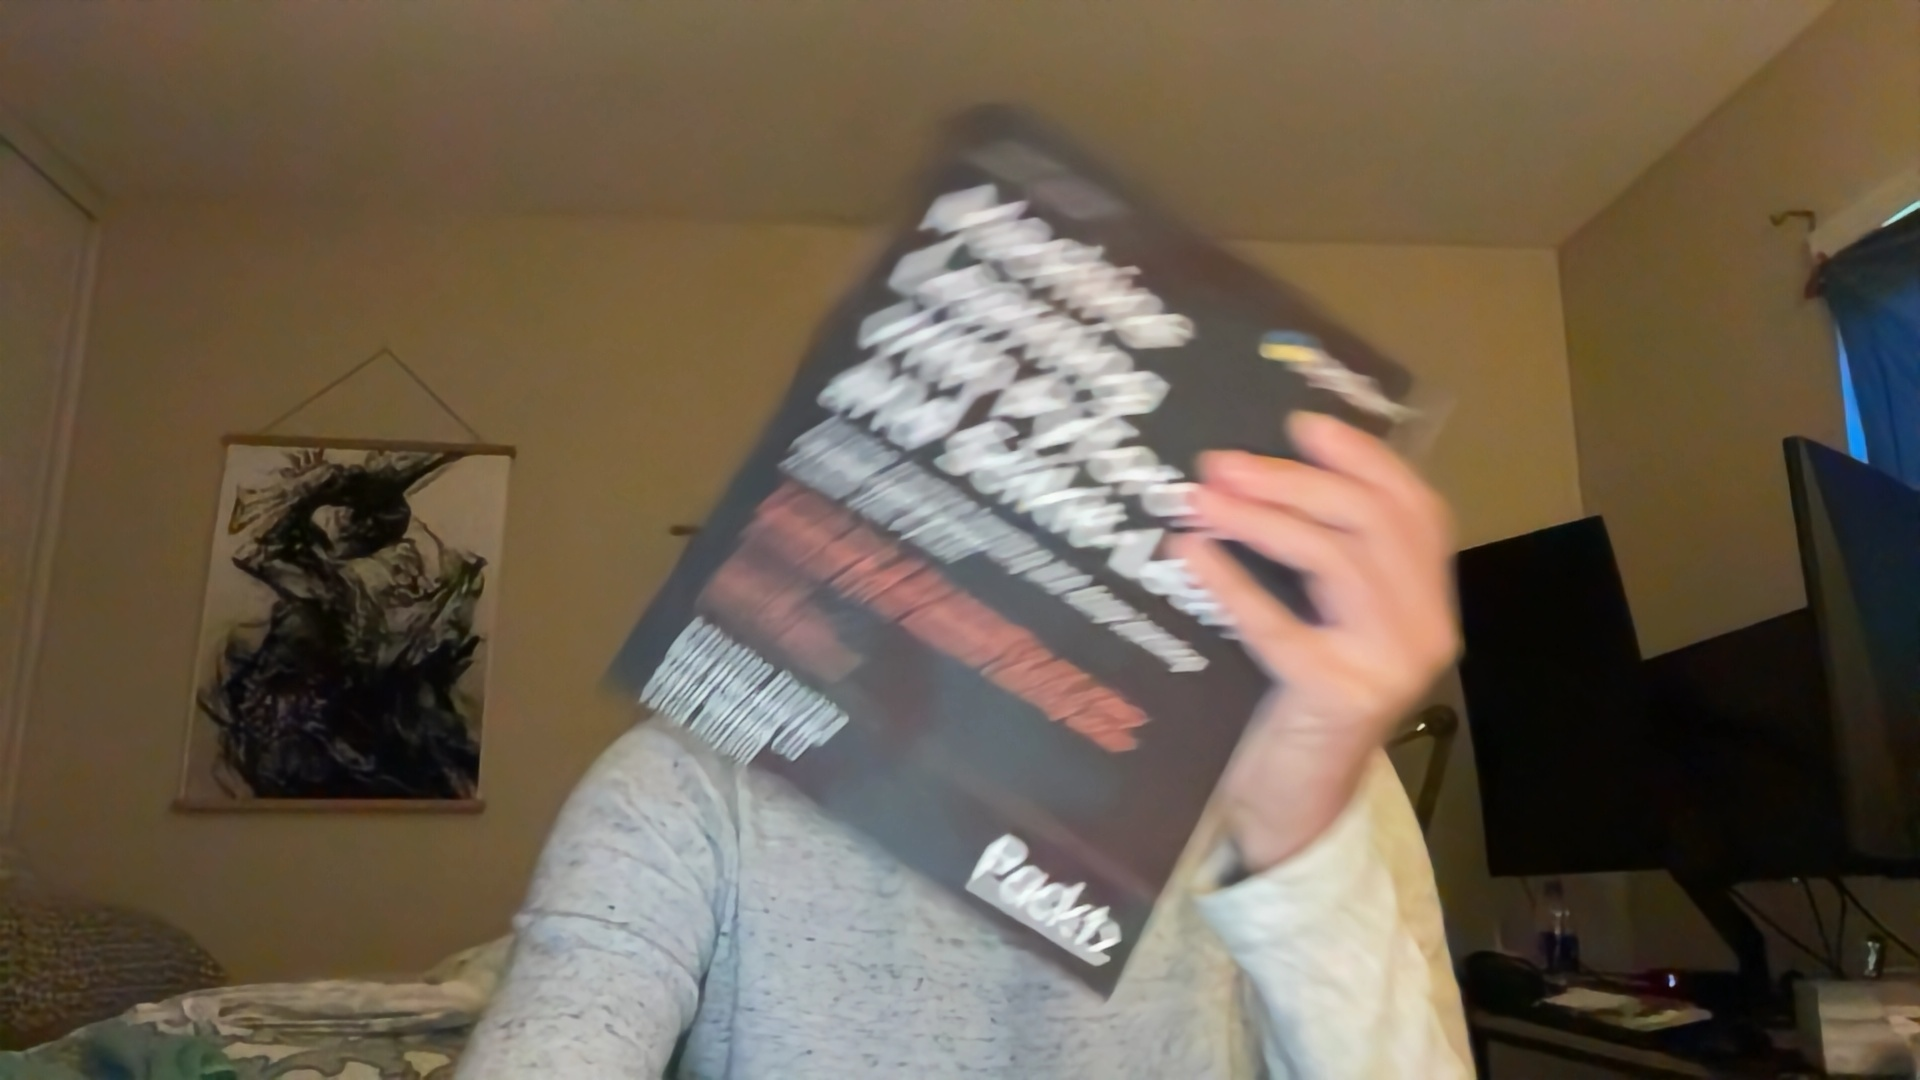book: (597, 95, 1437, 997)
